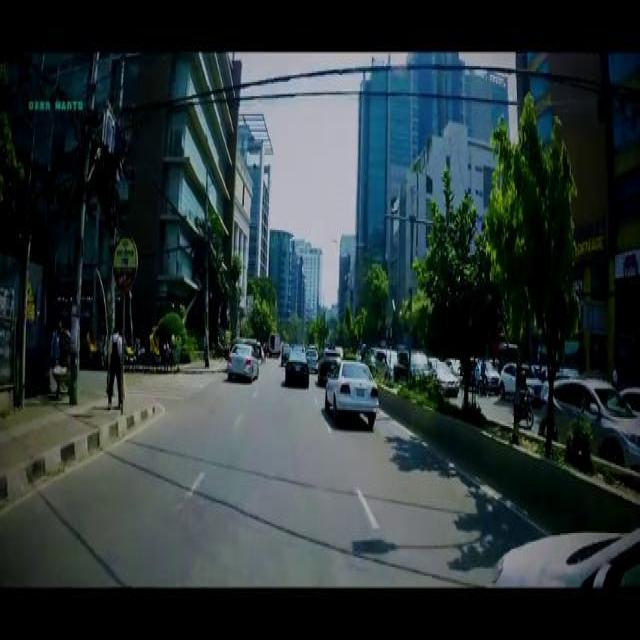car: (538, 374, 638, 462), (324, 359, 378, 420), (497, 360, 541, 394), (226, 340, 258, 378), (429, 358, 458, 392), (284, 348, 308, 385), (472, 358, 498, 389), (306, 347, 316, 368)
motorbike: (510, 390, 532, 425)
suv: (393, 348, 435, 382)
